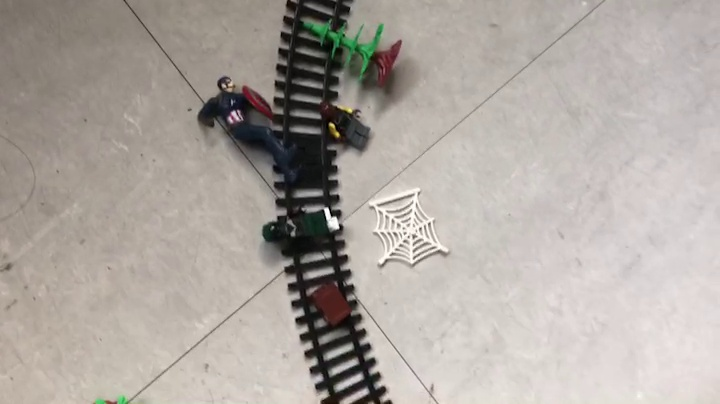box: (308, 282, 353, 329)
people: (195, 76, 304, 187), (260, 204, 344, 257), (316, 99, 373, 154)
tree: (300, 19, 403, 86)
web: (369, 186, 454, 273)
